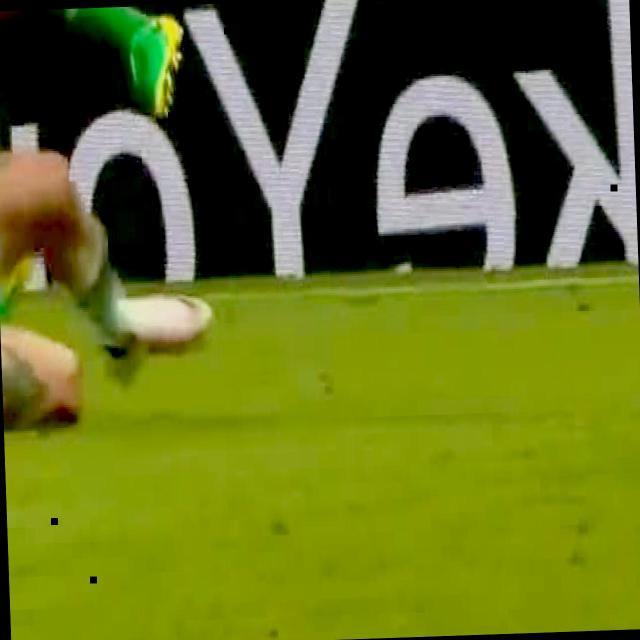player-white: (0, 4, 216, 458), (0, 4, 196, 352)
